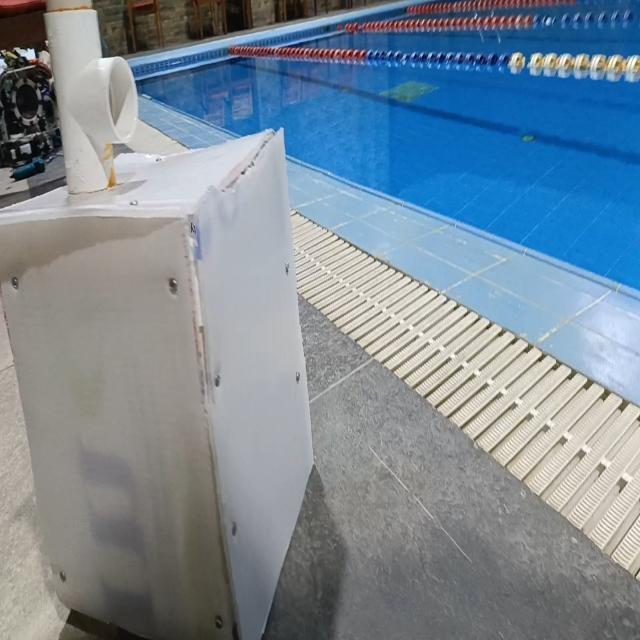Cube: (0, 123, 315, 638)
